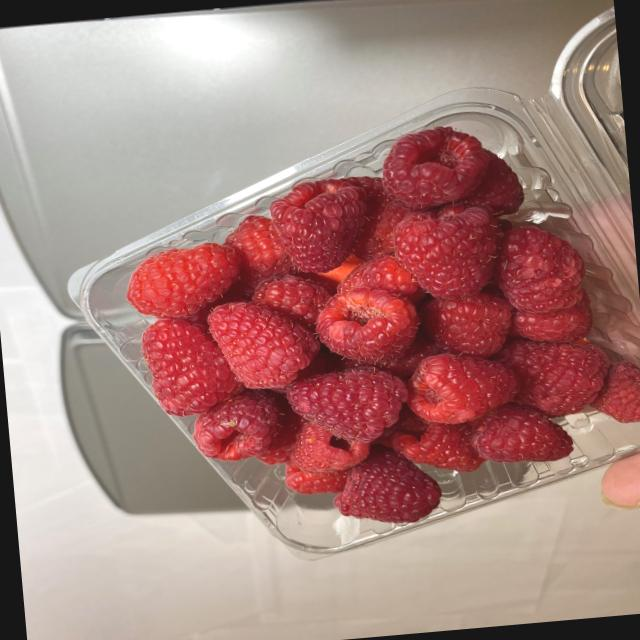raspberries: (137, 173, 630, 492)
